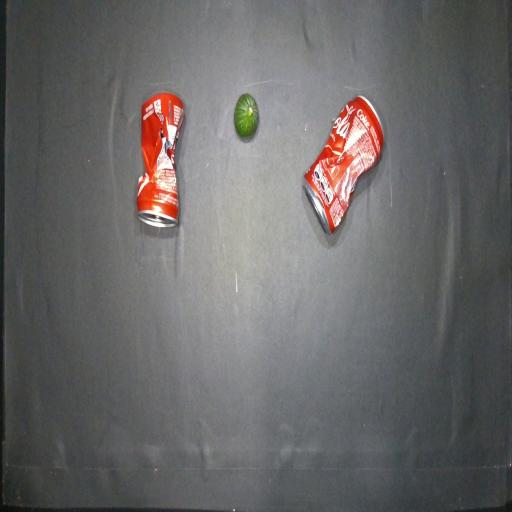higo: (234, 93, 259, 138)
lata_defectuoso: (303, 96, 383, 233), (137, 93, 184, 227)
